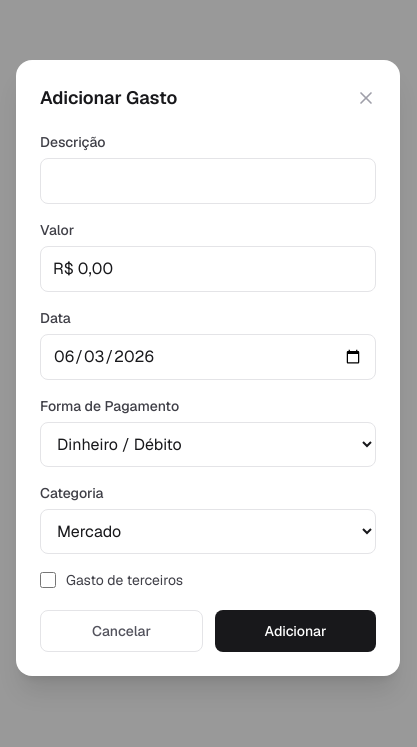
Scenario: AddTransactionModal › should show installments field when credit card is selected
This screenshot has width=417, height=747.
Select "Cartão de Crédito" in the dropdown labelled "Forma de Pagamento" at (208, 444), box [40,422,376,467]
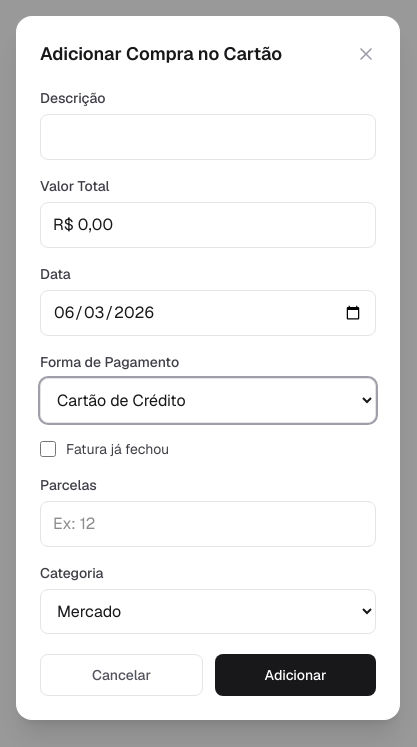
Result: the field labelled "Parcelas" is shown at [40,501,376,547]
